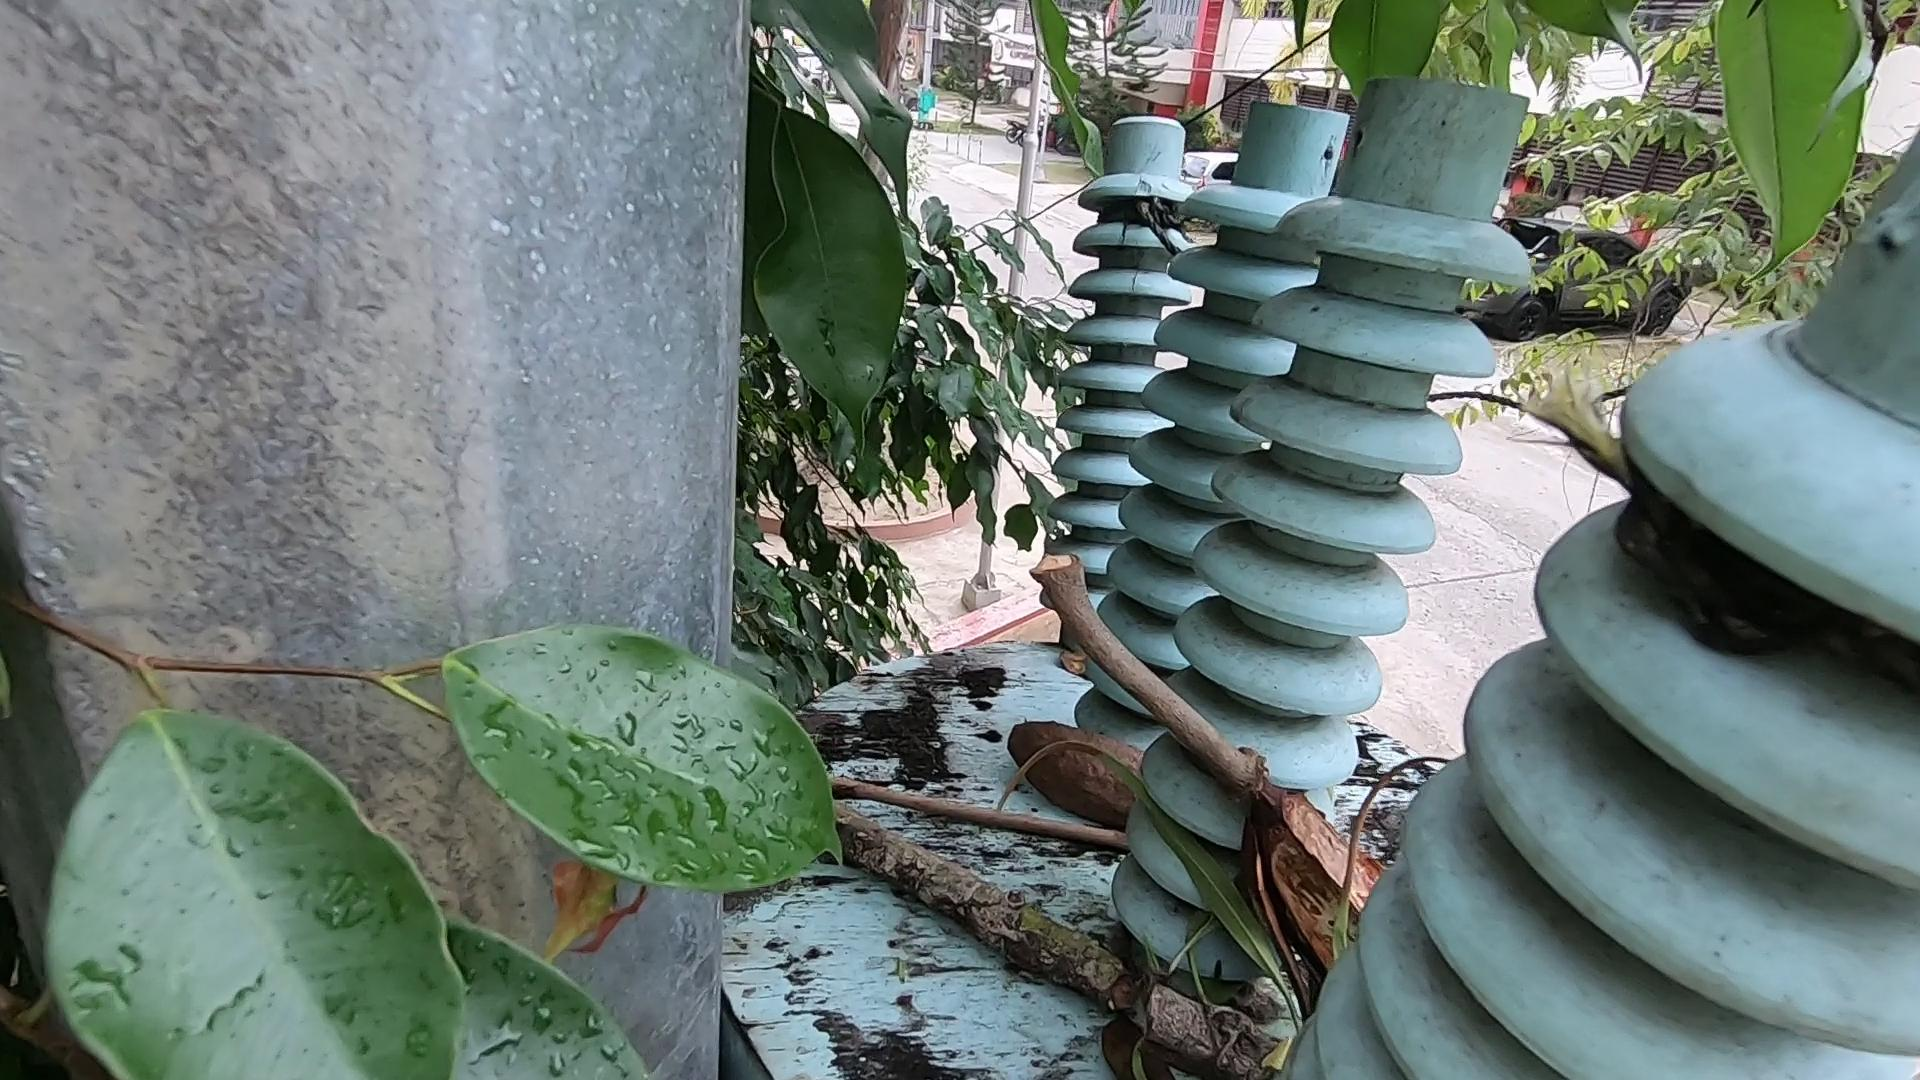branch with leaves: (835, 818, 1258, 1063)
leaf: (1133, 786, 1302, 1034)
mahogany fruit: (1249, 753, 1456, 988), (957, 688, 1172, 825)
tree branch: (1051, 553, 1279, 811), (828, 774, 1120, 844)
